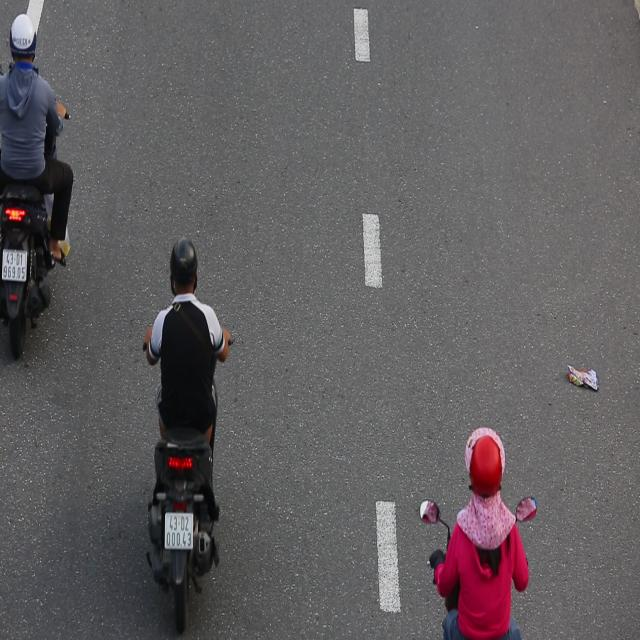motorbike: (142, 237, 238, 636), (0, 14, 75, 370)
